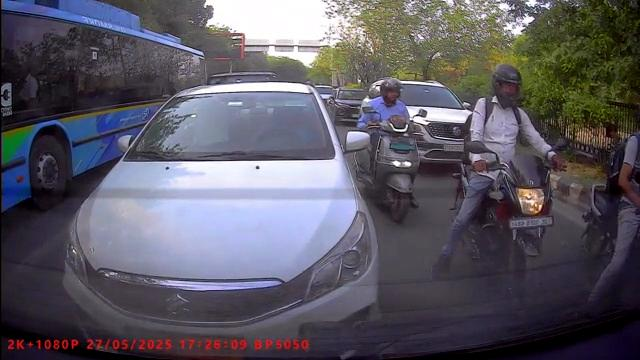motorcycle_with_helmet: (462, 62, 553, 316), (358, 76, 420, 225)
